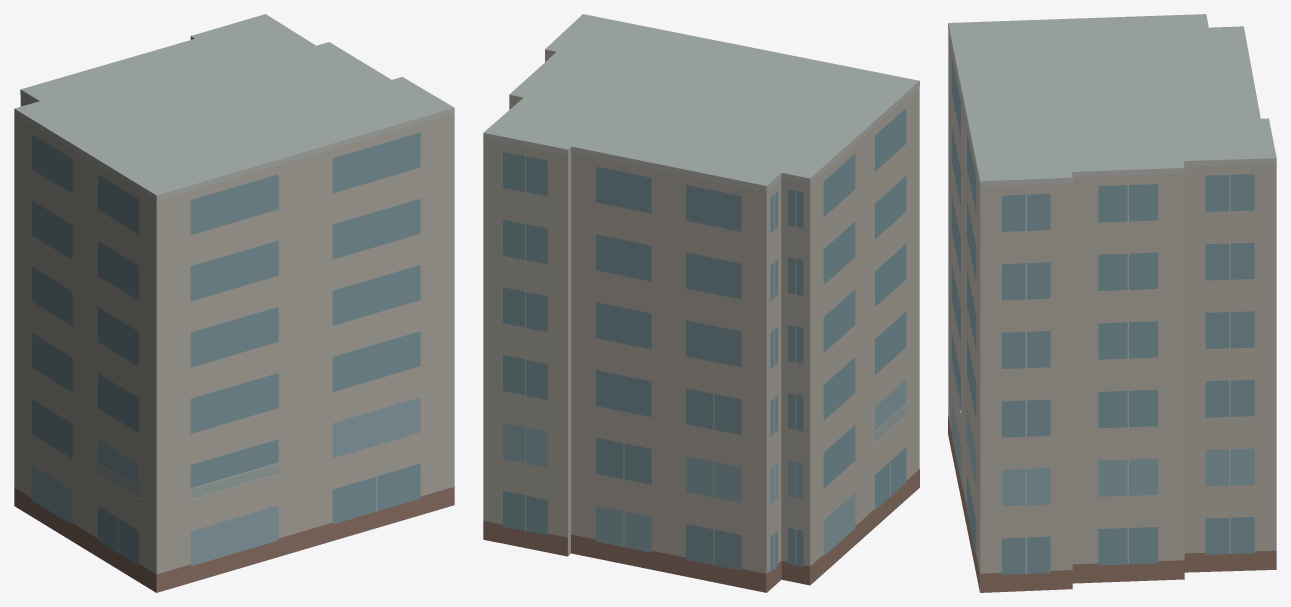
Rendered from survey-upis-33033240.glb.
3 views of the same model, side by side, from view 1: azimuth 30°, elevation 25°; view 2: azimuth 150°, elevation 25°; view 3: azimuth 270°, elevation 25° (orthographic). The views are drawn at different scales.
Parts seen in each view (by area): view 1: survey-upis-33033240.tmp; view 2: survey-upis-33033240.tmp; view 3: survey-upis-33033240.tmp.
Part boxes in pixels (x1,y1,x2,y2): survey-upis-33033240.tmp: [14, 14, 454, 592]; survey-upis-33033240.tmp: [483, 14, 919, 592]; survey-upis-33033240.tmp: [948, 14, 1276, 592].
Bounding box in the file's own units: 15.53 × 17.8 × 12.89.
